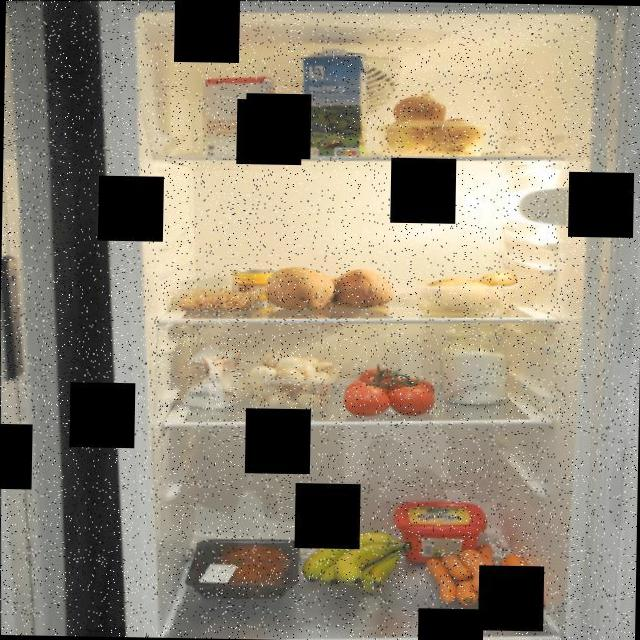Carne vacuno: (182, 536, 302, 600)
Cebolla: (372, 88, 493, 158)
Champiñones: (252, 347, 336, 404)
Gambas/Langostinos: (174, 286, 253, 314)
Leche: (296, 44, 368, 160)
Mantequilla: (390, 496, 490, 566)
Patata: (410, 265, 522, 315)
Plátano: (294, 526, 416, 594)
Tomate: (340, 362, 442, 419)
Zanahoria: (423, 543, 549, 614)
corn: (230, 267, 277, 308)
flour: (180, 332, 252, 412)
sugar: (200, 74, 280, 158), (438, 320, 509, 406)
sweet_potato: (261, 264, 395, 315)
